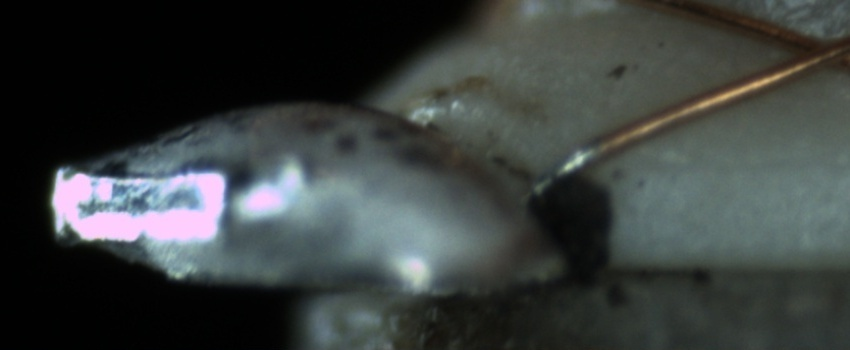CL: (763, 14, 850, 82)
DL: (630, 133, 850, 199)
TS: (534, 141, 602, 194)
TTCW: (530, 122, 635, 199)
